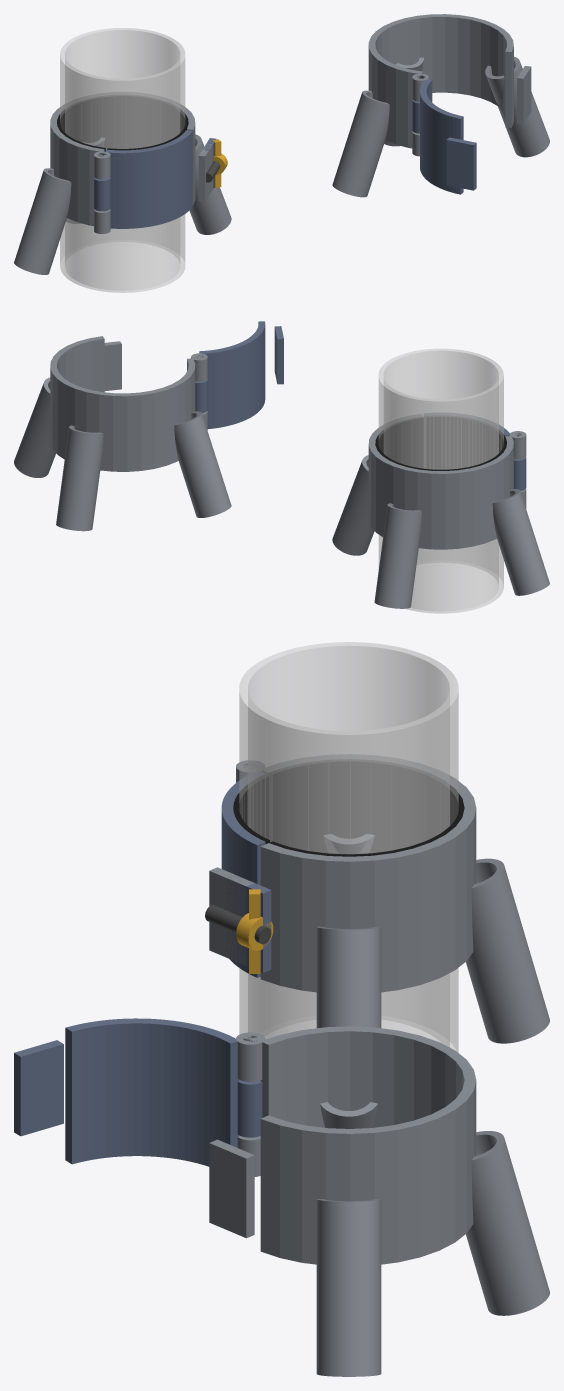
3 renders of one model, top to bottom at view 1: azimuth 30°, elevation 25°; view 2: azimuth 150°, elevation 25°; view 3: azimuth 270°, elevation 25°, orthographic. The views are drawn at different scales.
Parts seen in each view (by area): view 1: growing_pipe_stub, collar_body_with_sleeves_6, collar_body_with_sleeves_0, gate_1, rubber_liner_3, gate_7, wing_nut_5; view 2: collar_body_with_sleeves_6, collar_body_with_sleeves_0, growing_pipe_stub, gate_7, rubber_liner_3, gate_1; view 3: collar_body_with_sleeves_6, growing_pipe_stub, collar_body_with_sleeves_0, gate_7, rubber_liner_3, gate_1, wing_nut_5, bolt_M6_4.
Part boxes in pixels (<box>): growing_pipe_stub: <box>60,28,185,292</box>; collar_body_with_sleeves_6: <box>332,14,549,197</box>; collar_body_with_sleeves_0: <box>14,92,231,274</box>; gate_1: <box>94,130,215,228</box>; rubber_liner_3: <box>57,95,188,151</box>; gate_7: <box>412,79,476,194</box>; wing_nut_5: <box>212,139,227,188</box>; collar_body_with_sleeves_6: <box>14,336,231,531</box>; collar_body_with_sleeves_0: <box>332,414,549,608</box>; growing_pipe_stub: <box>378,348,503,613</box>; gate_7: <box>195,321,283,429</box>; rubber_liner_3: <box>375,416,506,470</box>; gate_1: <box>424,413,526,490</box>; collar_body_with_sleeves_6: <box>209,1026,549,1376</box>; growing_pipe_stub: <box>239,642,458,1052</box>; collar_body_with_sleeves_0: <box>209,754,549,1043</box>; gate_7: <box>14,1018,262,1166</box>; rubber_liner_3: <box>233,759,464,856</box>; gate_1: <box>221,772,271,977</box>; wing_nut_5: <box>236,889,273,973</box>; bolt_M6_4: <box>205,905,271,944</box>.
Size of the model in its own units: 367 by 140 by 183.
